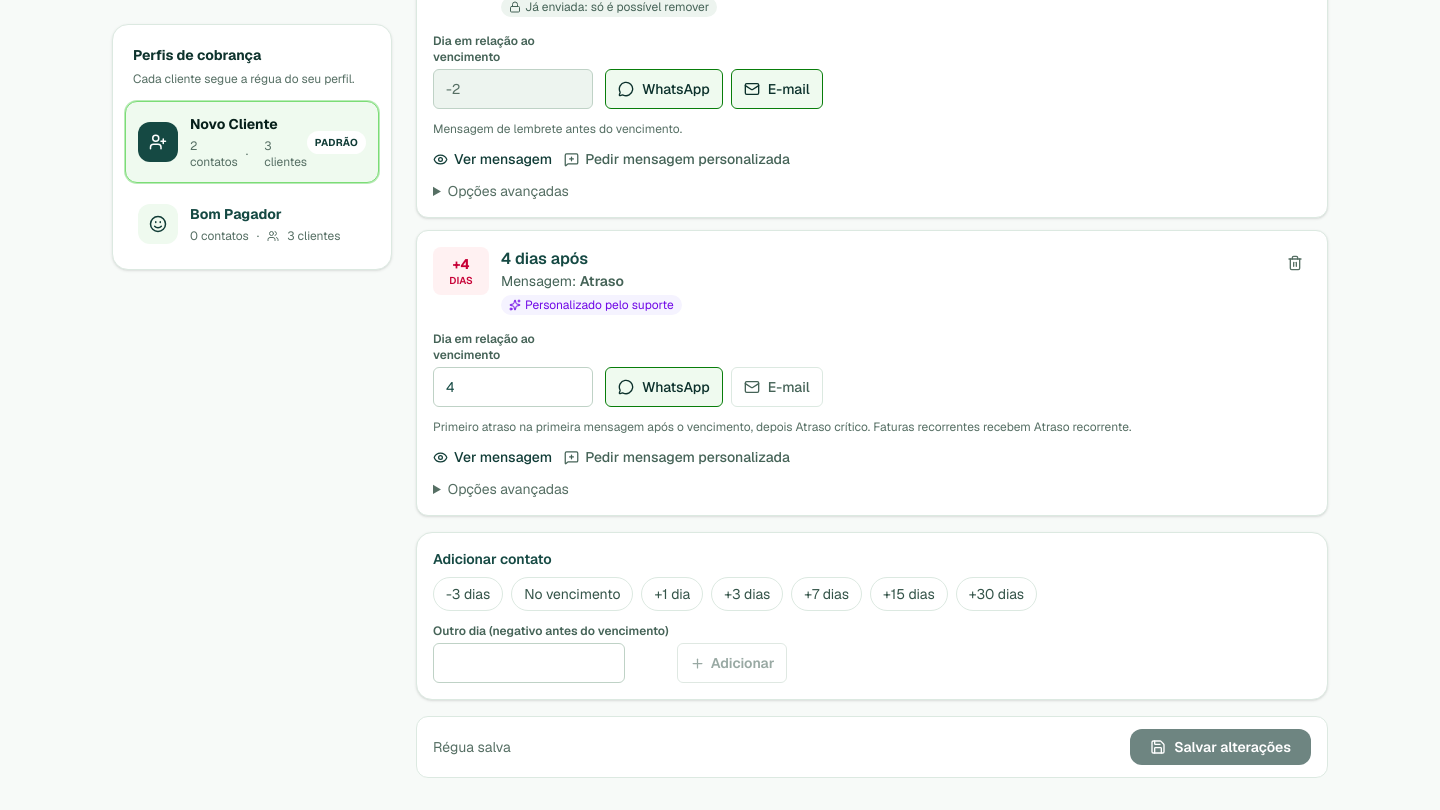
it: ReguaPage › shows the message of a day for each payment method
(page scrolled)
Click the button "Ver mensagem" below "Personalizado pelo suporte" at [493, 457], box [433,447,552,467]
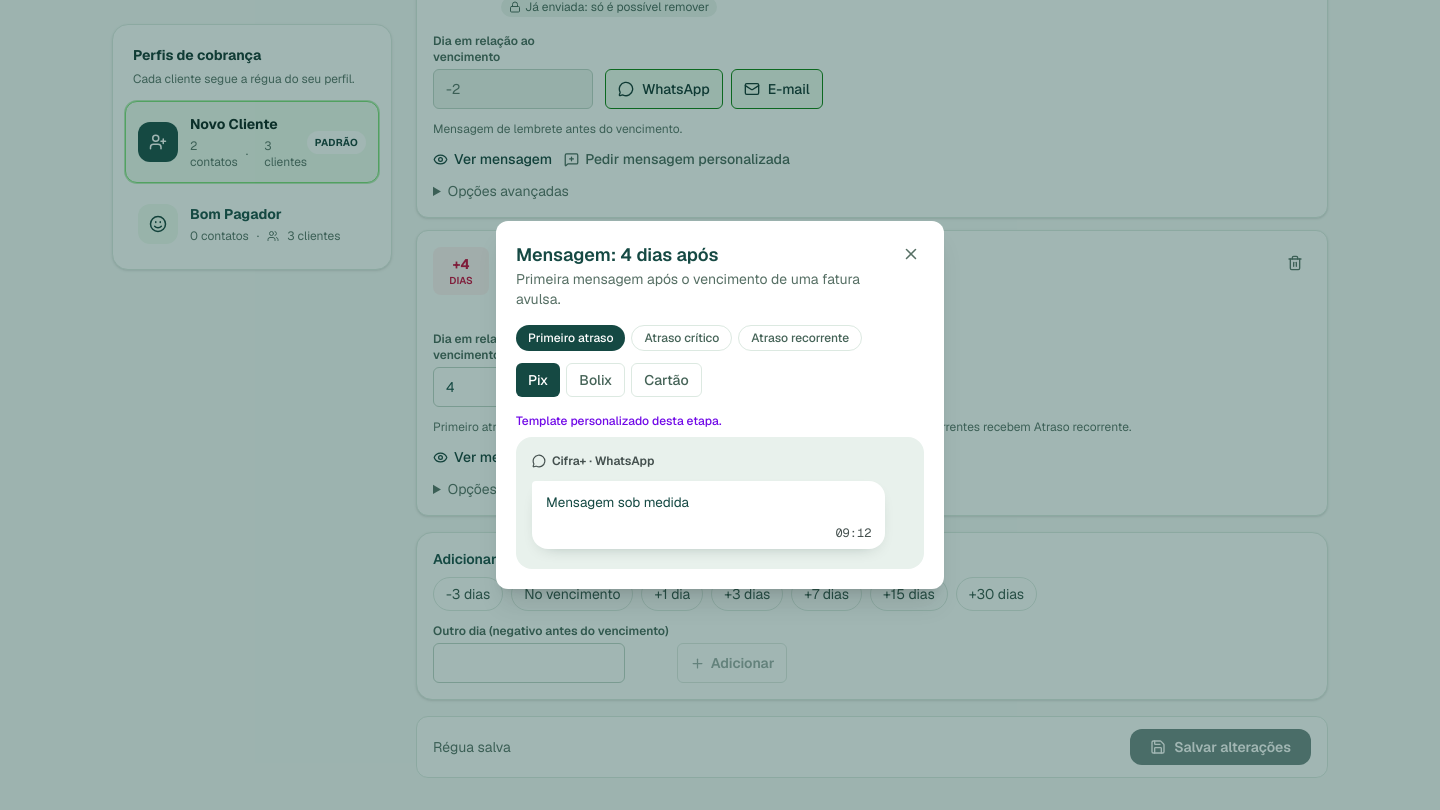
expect the picture shows "Mensagem sob medida": met, box [546,493,689,511]
Click the button "Bolix" at [596, 380], box [566,363,625,397]
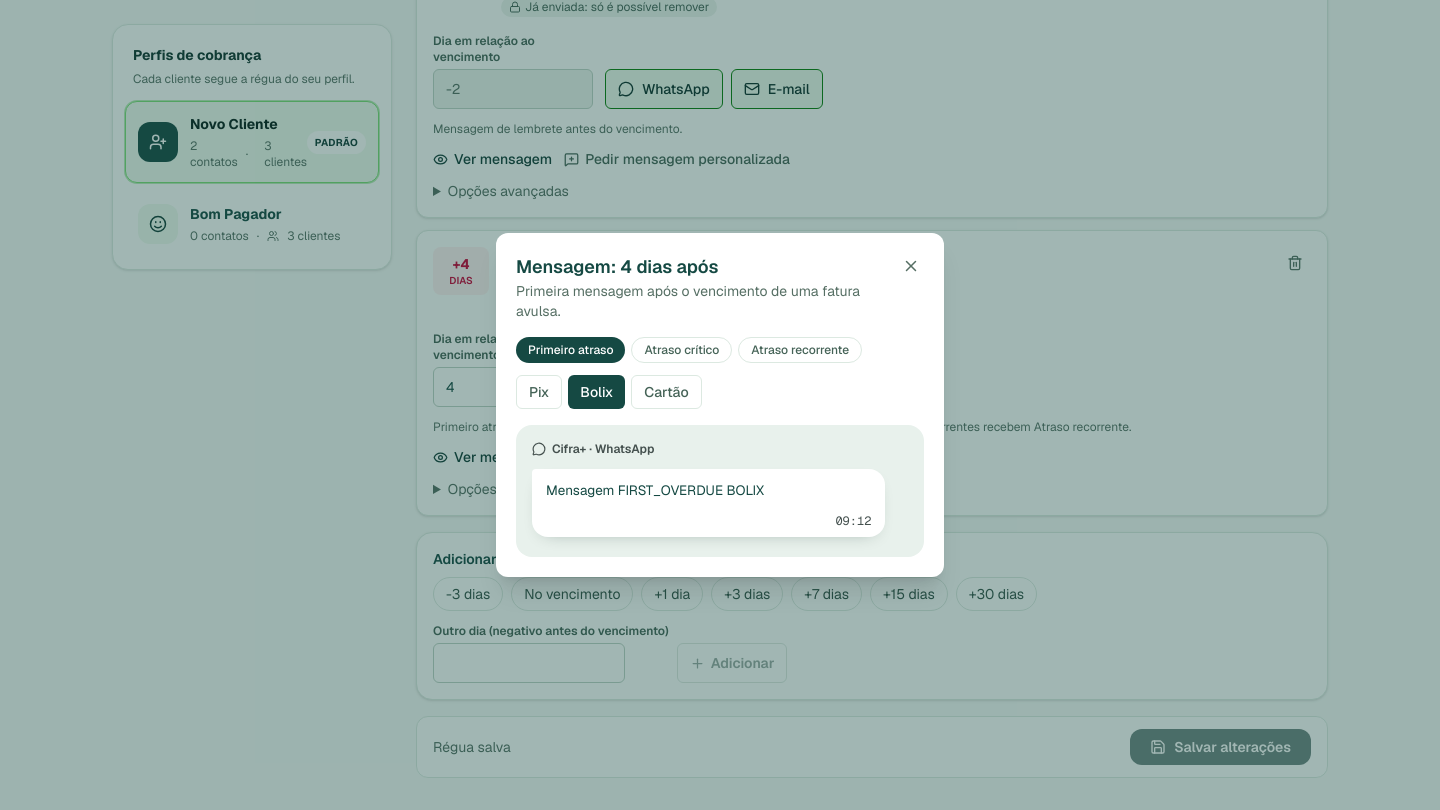
expect the picture shows "Mensagem FIRST_OVERDUE BOLIX": met, box [546,481,764,499]
Click the button "Atraso recorrente" at [800, 350], box [738,337,862,363]
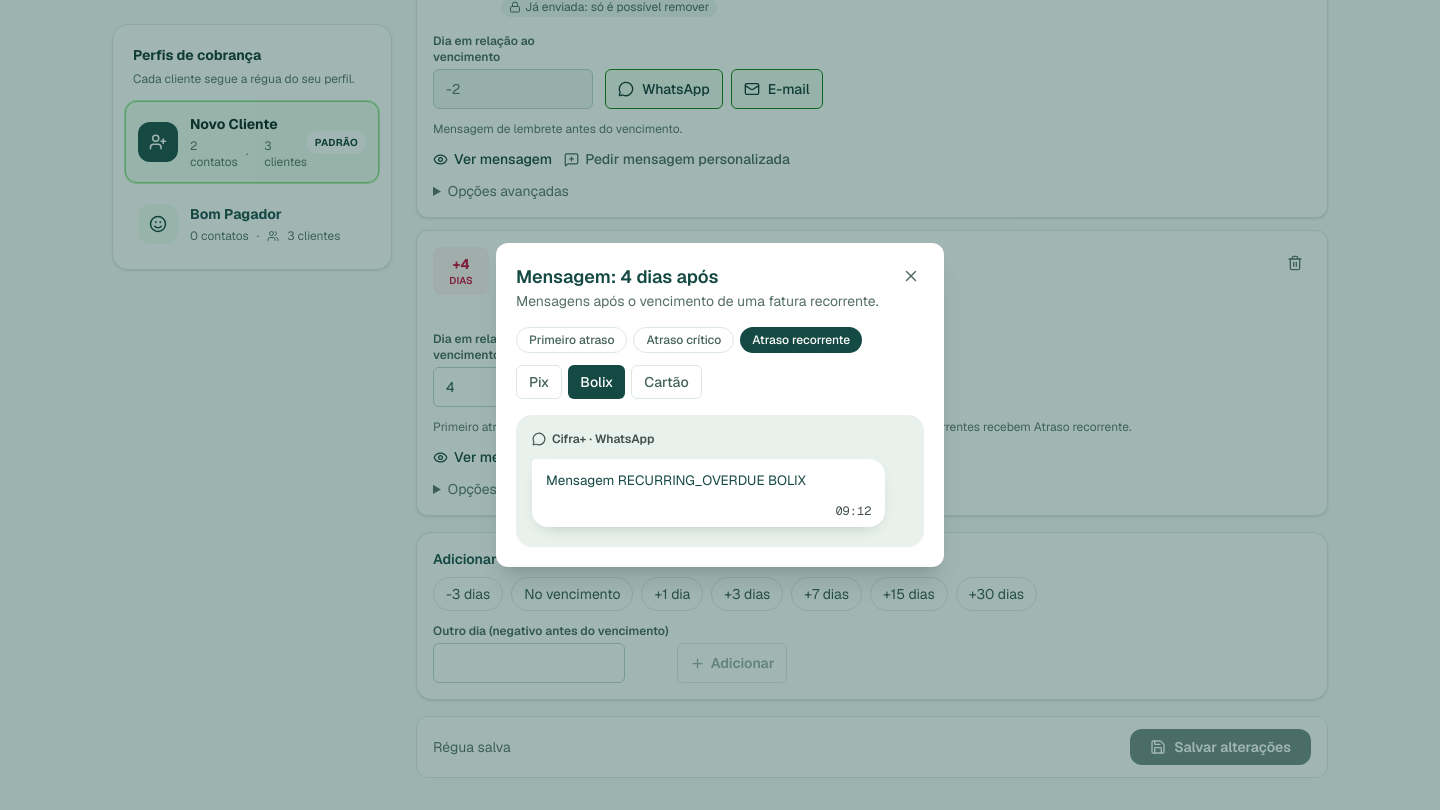
expect the picture shows "Mensagem RECURRING_OVERDUE BOLIX": met, box [546,471,806,489]
